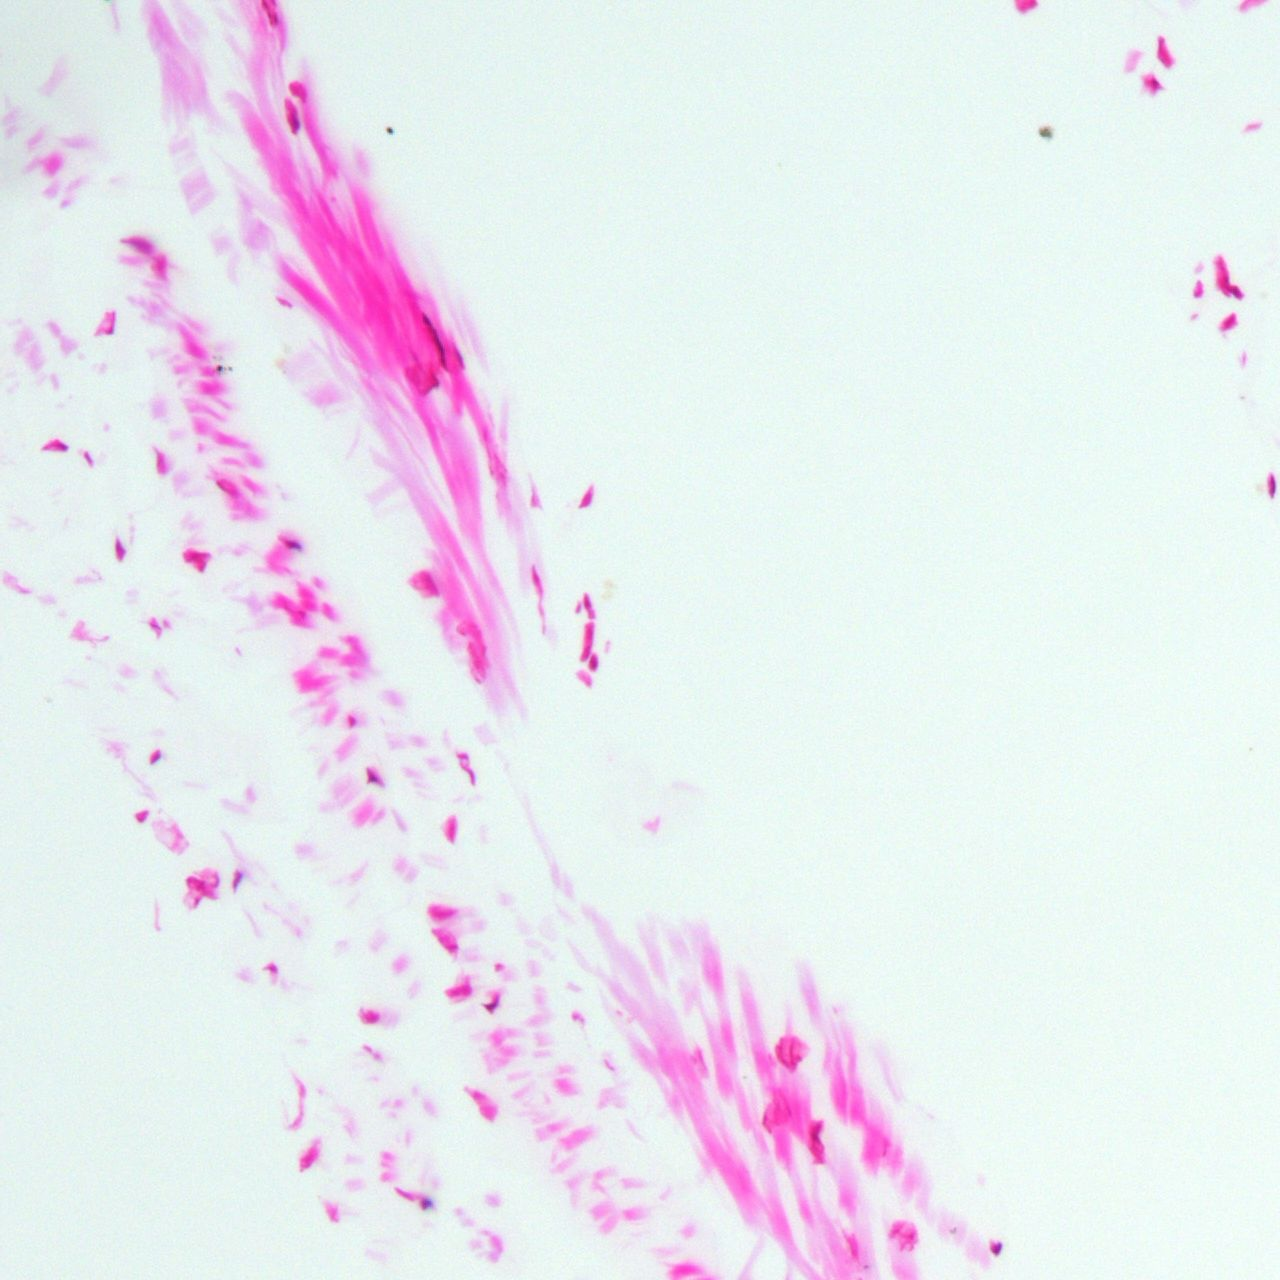dust: (1036, 125, 1053, 138), (386, 125, 393, 135), (217, 365, 222, 373), (282, 369, 288, 375), (229, 366, 233, 372), (211, 355, 217, 360), (863, 1264, 869, 1268), (222, 366, 226, 370), (742, 1074, 745, 1080), (949, 1230, 955, 1233), (953, 1227, 956, 1231)
nucleus-FG: (418, 313, 451, 367), (529, 567, 549, 622), (578, 620, 597, 663), (120, 236, 154, 256), (422, 376, 443, 399), (809, 1118, 823, 1150), (41, 438, 68, 451), (846, 1234, 859, 1261), (229, 872, 245, 893), (581, 593, 594, 618), (183, 550, 210, 561), (454, 349, 468, 372), (482, 995, 499, 1013), (888, 1220, 905, 1239), (113, 538, 125, 561), (280, 605, 306, 617), (147, 748, 163, 765), (1157, 36, 1166, 66), (215, 481, 233, 495), (1268, 472, 1278, 501), (394, 1187, 413, 1200), (105, 309, 115, 334), (775, 1039, 784, 1063), (464, 765, 476, 784), (1230, 285, 1242, 301), (762, 1114, 772, 1133), (366, 768, 377, 784), (788, 1039, 795, 1065), (284, 540, 302, 550), (588, 653, 598, 672), (421, 1198, 434, 1211), (290, 115, 299, 132), (195, 878, 206, 892), (990, 1241, 1002, 1255), (1219, 275, 1228, 292), (1150, 79, 1160, 93), (448, 821, 454, 842), (84, 452, 93, 467), (197, 561, 207, 572), (135, 812, 147, 822), (212, 873, 219, 888), (444, 944, 457, 952), (184, 877, 195, 886), (156, 452, 162, 469), (348, 714, 355, 727), (264, 964, 277, 971), (1223, 320, 1232, 329), (906, 1230, 915, 1239), (149, 622, 161, 629), (273, 12, 279, 26), (366, 1016, 377, 1023), (192, 898, 199, 907), (1190, 292, 1199, 297), (798, 1055, 803, 1063)
